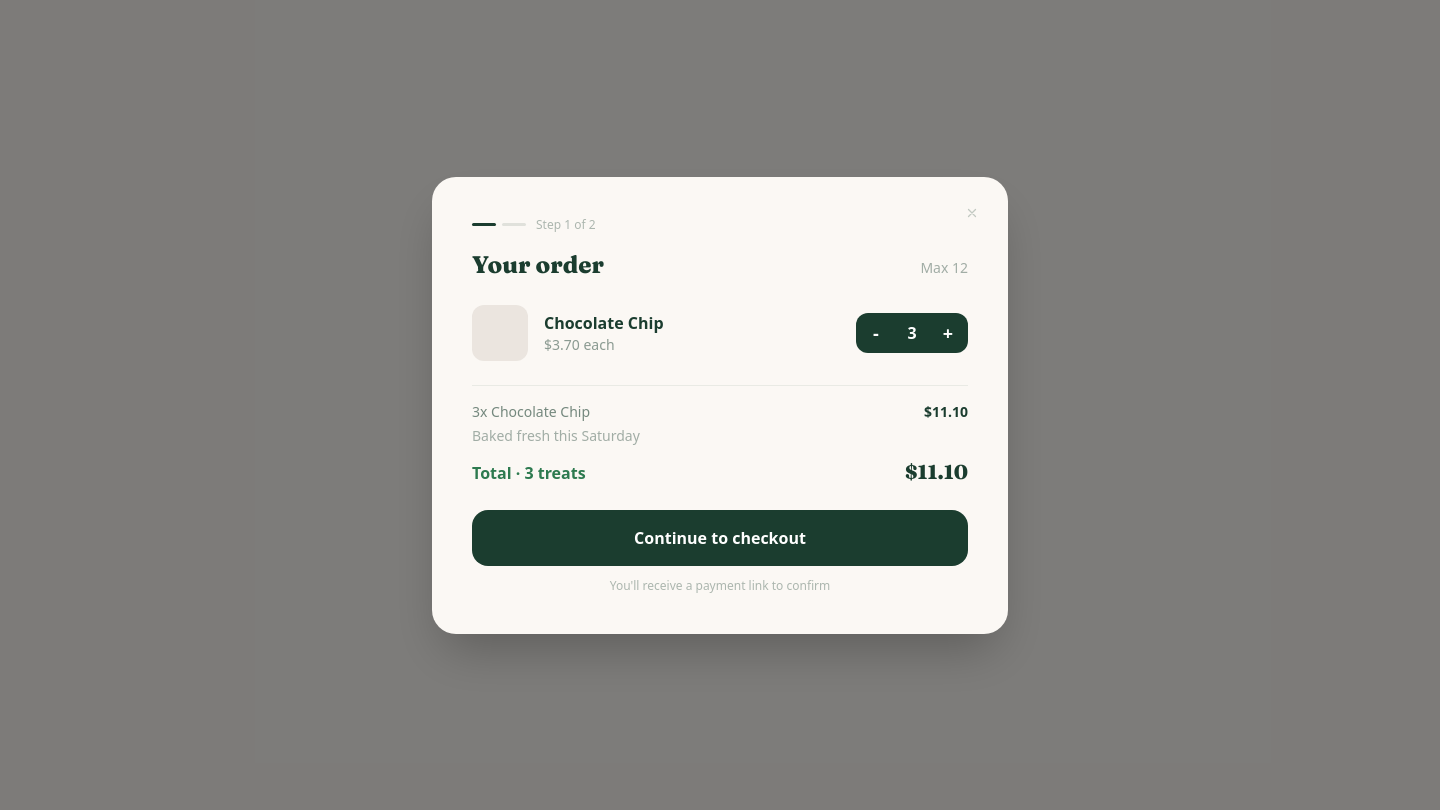
it: OrderSheet › Step 1: Quantity › + button increases quantity
This screenshot has width=1440, height=810.
Click the button "+": [948, 332] box [928,312,968,352]
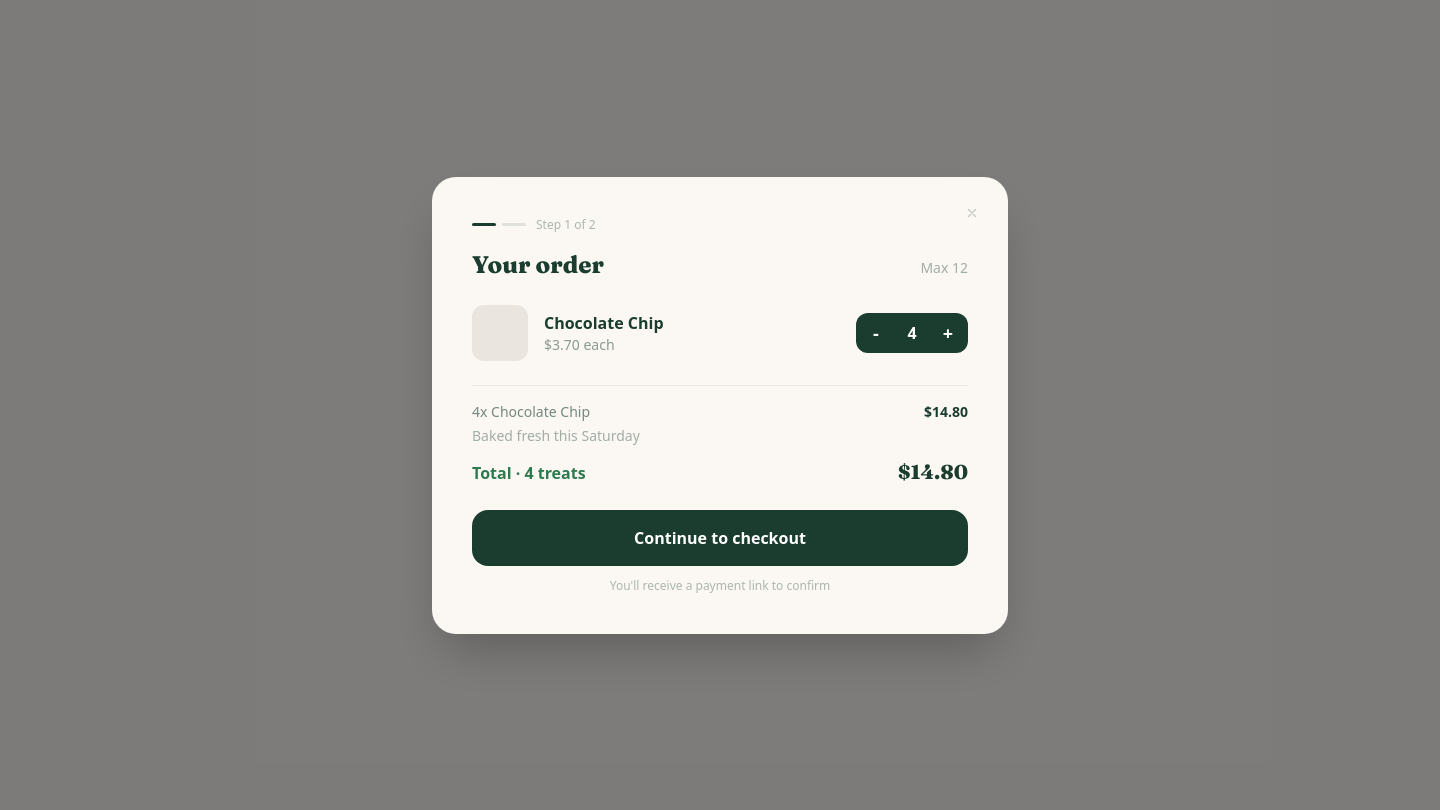
Expected: the text "4" is shown, [907,322,917,344]
